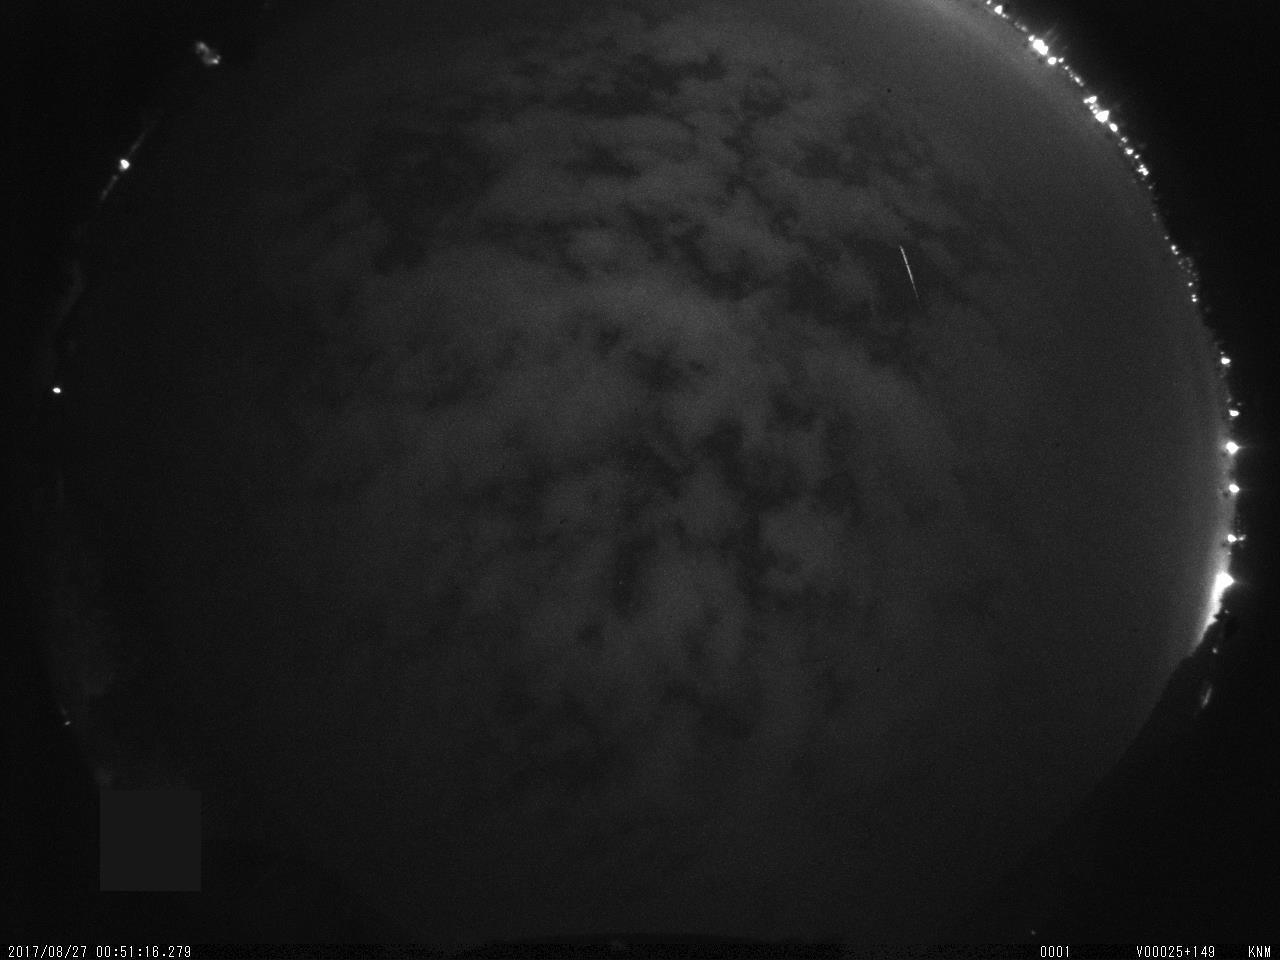Meteor: (895, 243, 920, 302)
